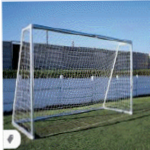goals: (12, 22, 137, 140)
